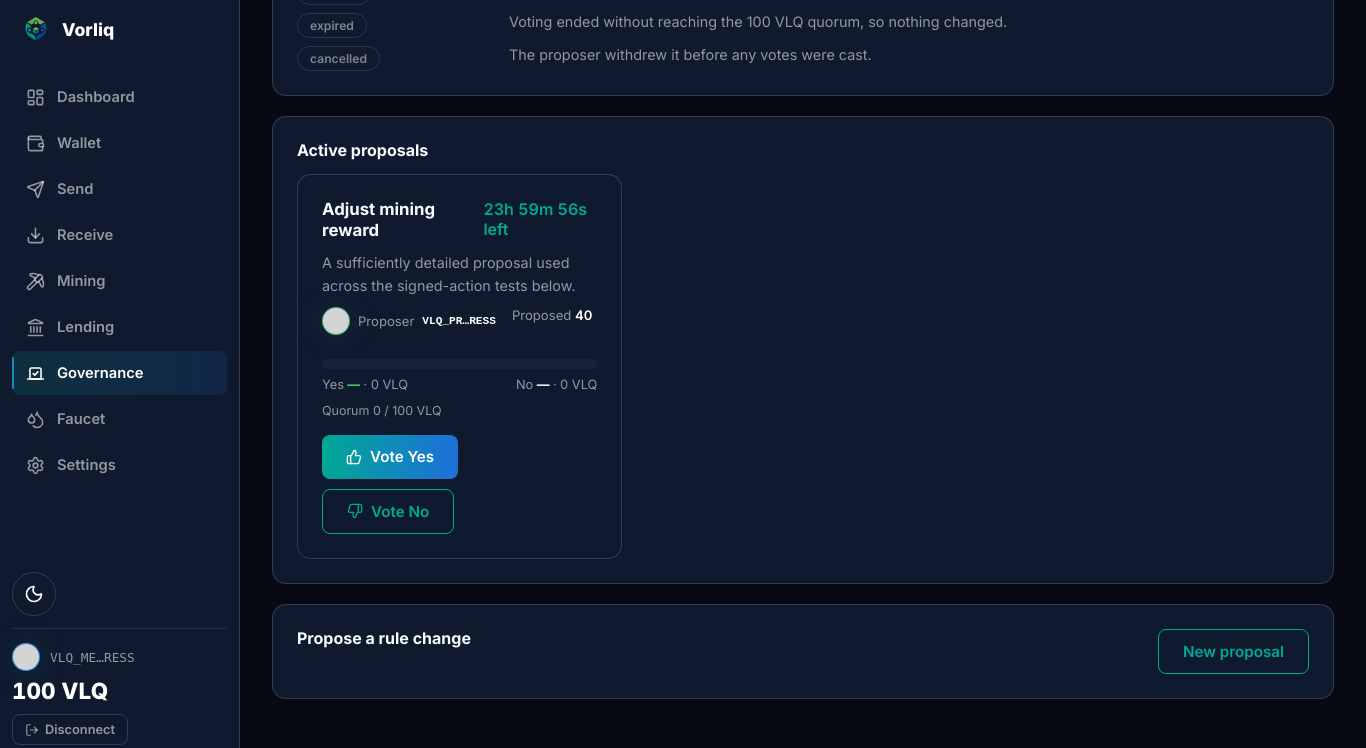
Test: does not show success when signed authorization is rejected
The width and height of the screenshot is (1366, 748).
(page scrolled)
Click the button "Vote Yes": (390, 457) 322,435 -> 458,479
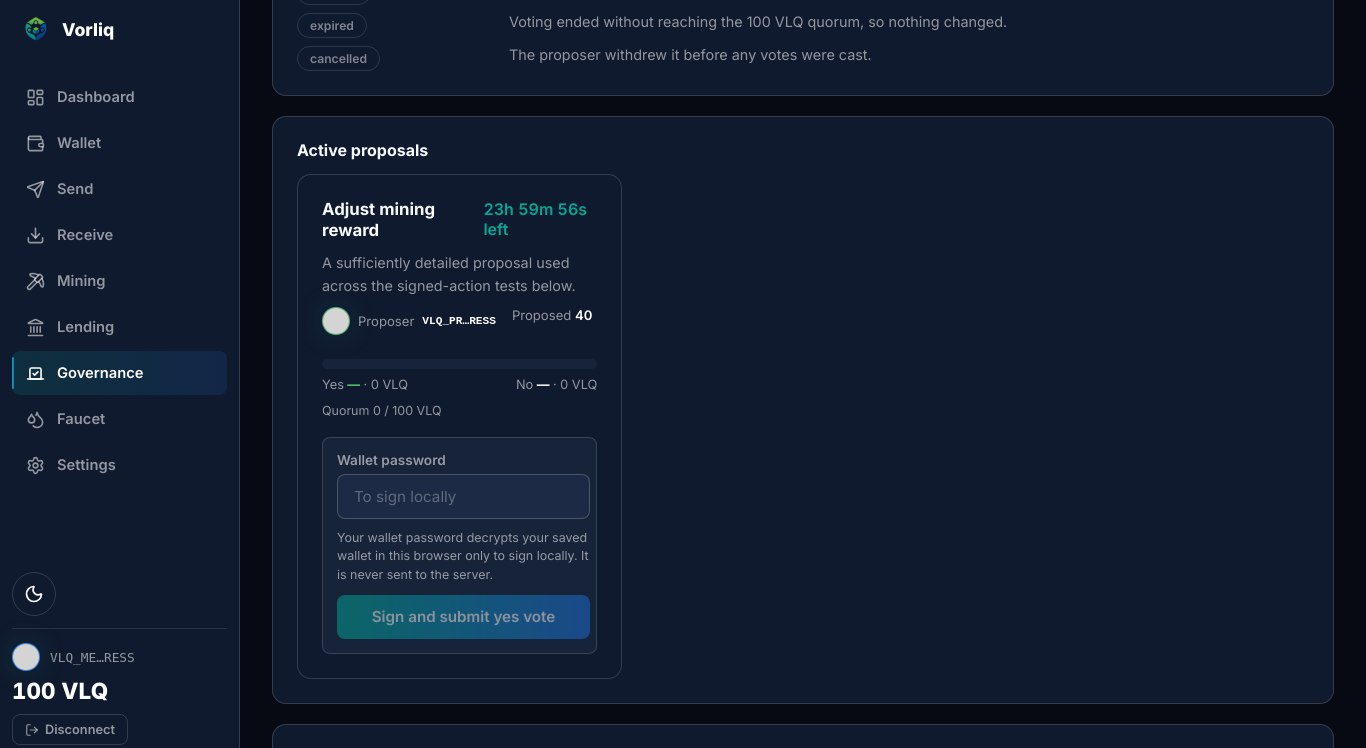
In the password field labelled "Wallet password": (464, 496) 337,474 -> 590,519, type "wrong-password"
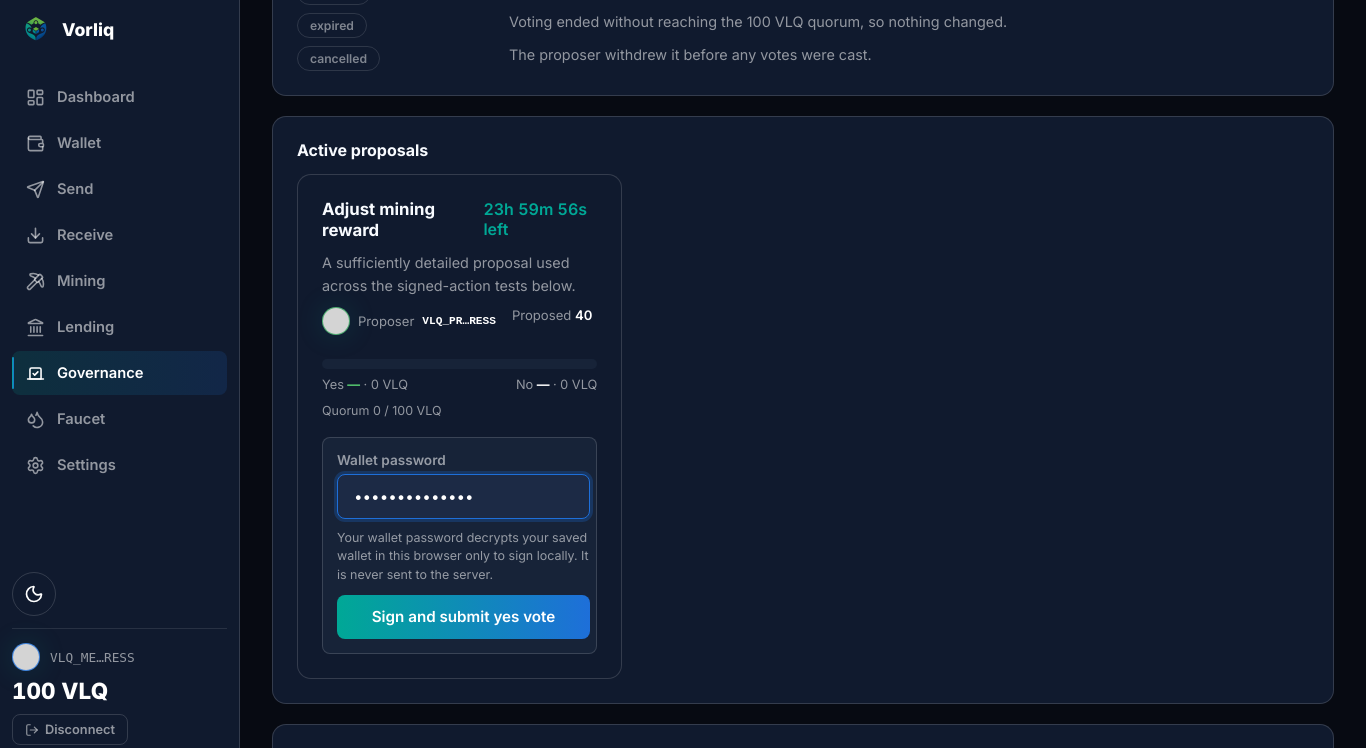
Click the button "Sign and submit yes vote": (464, 617) 337,595 -> 590,639
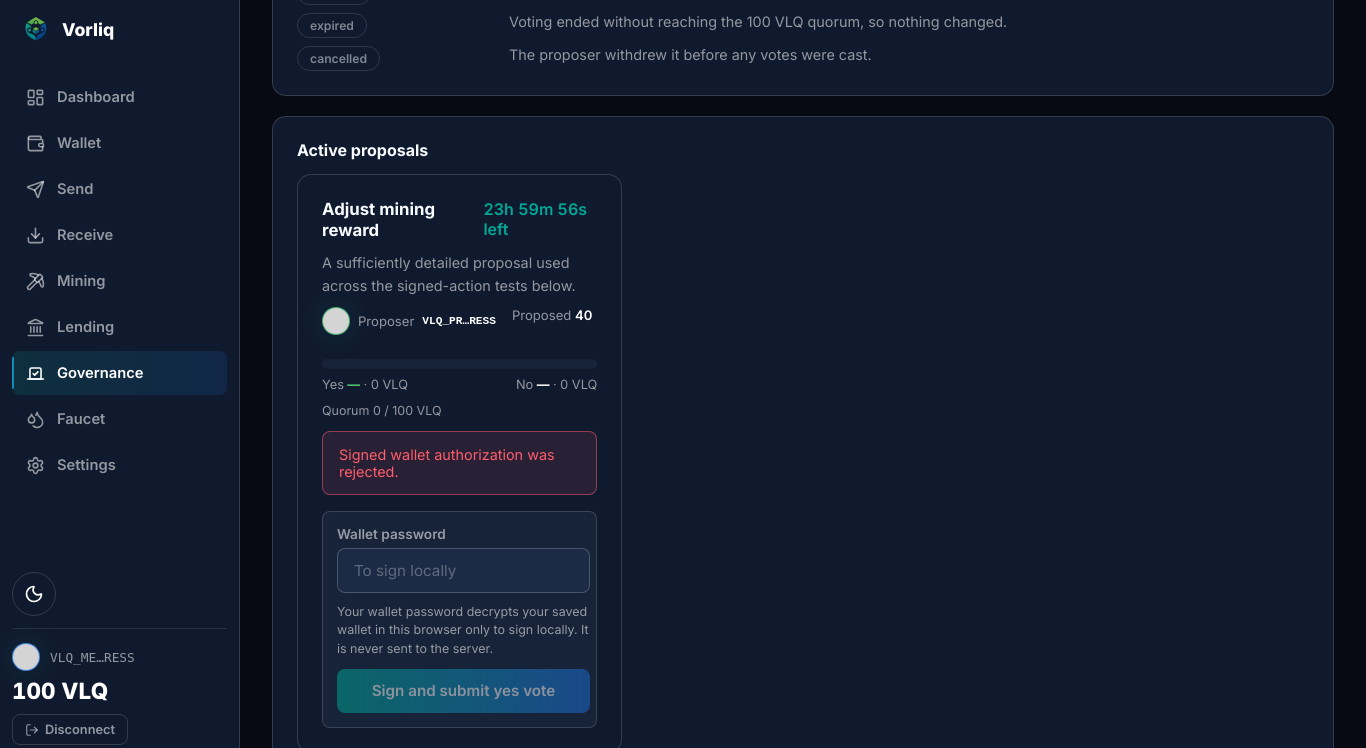
expect the text "Signed wallet authorization was rejected." is shown: met, box 339,446 -> 580,480
